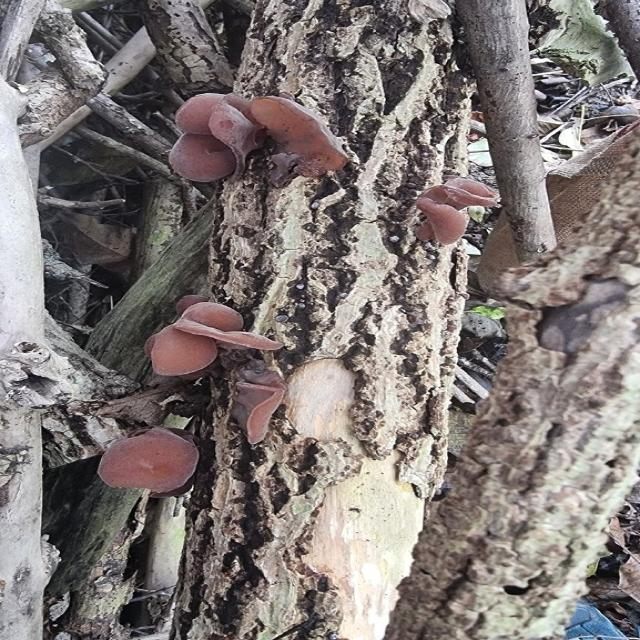Matang: (133, 290, 290, 384), (157, 86, 271, 188), (243, 91, 358, 184), (95, 422, 217, 507), (408, 172, 506, 255), (225, 354, 290, 454)
